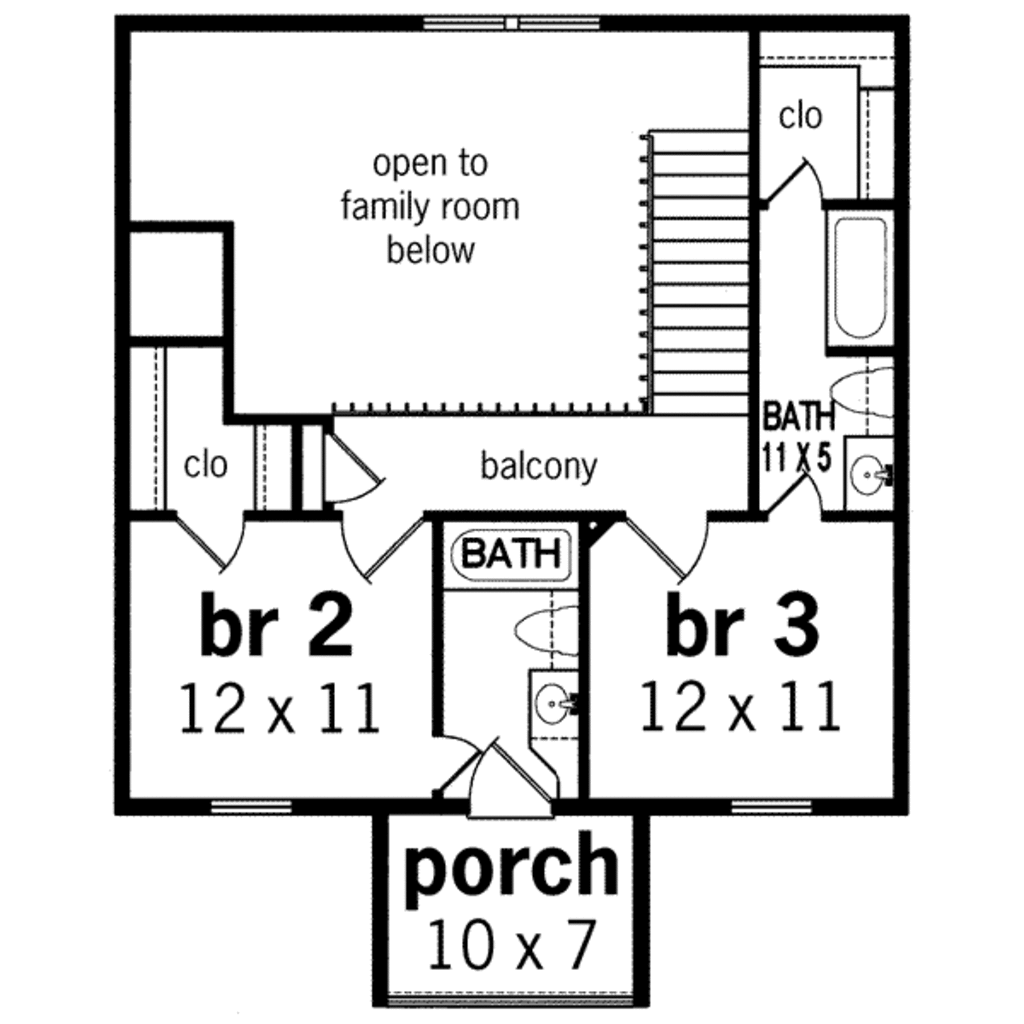door: (459, 738, 553, 819), (617, 512, 718, 582), (336, 511, 425, 587), (320, 430, 390, 509), (175, 509, 248, 577), (754, 140, 821, 208), (759, 469, 820, 530), (440, 735, 478, 803)
large_sink: (504, 601, 582, 663)
small_sink: (521, 671, 586, 739), (837, 443, 890, 511)
stairs: (642, 125, 755, 425)
tub: (821, 198, 902, 344), (436, 530, 583, 587)
window: (421, 16, 602, 28), (732, 795, 805, 816), (212, 801, 296, 816)
